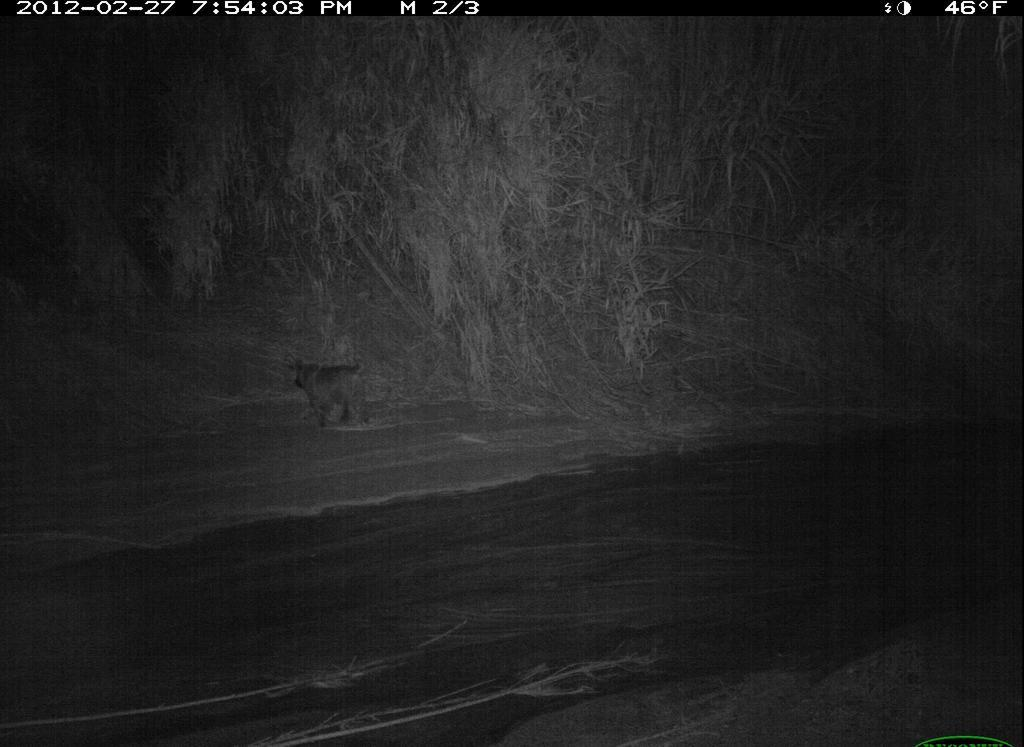bobcat: (286, 349, 376, 434)
